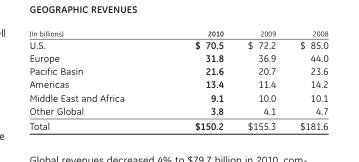table: (28, 28, 327, 130)
table column: (28, 28, 159, 130), (159, 28, 234, 130), (234, 28, 287, 130), (287, 28, 327, 130)
table column header: (28, 28, 327, 38)
table row: (28, 103, 327, 117), (28, 38, 327, 51), (28, 51, 327, 64), (28, 64, 327, 77), (28, 77, 327, 90), (28, 90, 327, 103), (28, 117, 327, 130), (28, 28, 327, 38)
